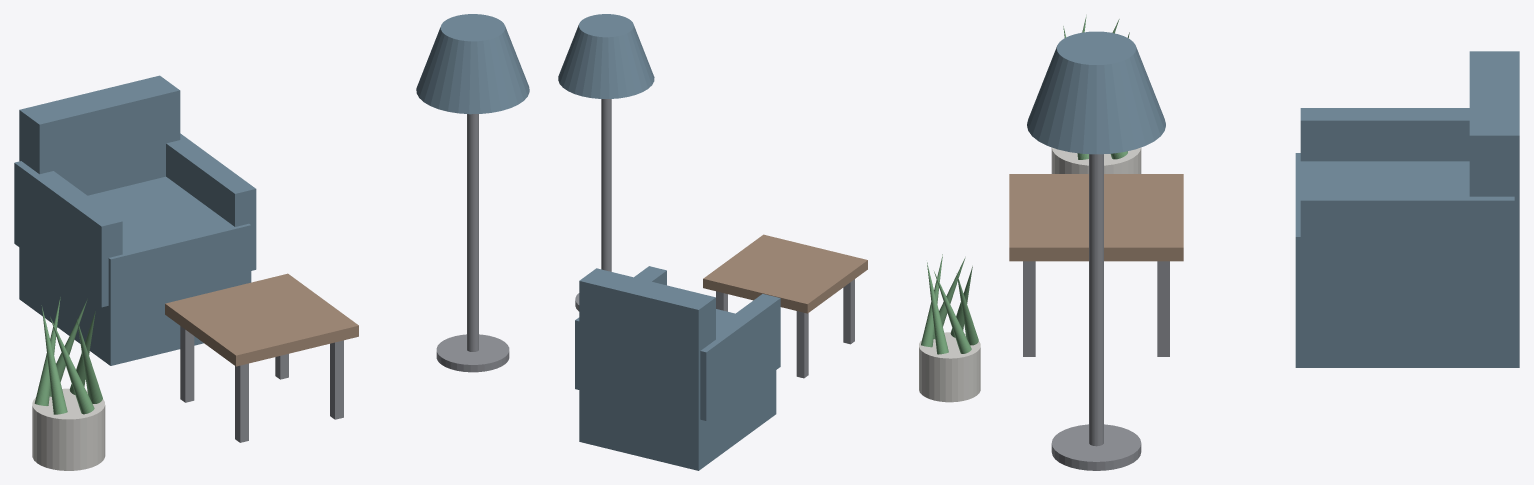
Rendered from InteriorProps_Custom.fbx.
The picture shows the model from 3 angles, left to right: view 1: azimuth 30°, elevation 25°; view 2: azimuth 150°, elevation 25°; view 3: azimuth 270°, elevation 25°; orthographic projection. The views are drawn at different scales.
Visible parts, largest first — view 1: GenProp_Armchair_Seat, GenProp_Armchair_Back, GenProp_SideTable_Top, GenProp_Armchair_Arm_L, GenProp_FloorLamp_Shade, GenProp_Armchair_Arm_R, GenProp_PlantPot, GenProp_FloorLamp_Rod, GenProp_FloorLamp_Base, GenProp_SideTable_Leg, GenProp_SideTable_Leg.002, GenProp_SideTable_Leg.001 (+4 smaller); view 2: GenProp_Armchair_Seat, GenProp_Armchair_Back, GenProp_SideTable_Top, GenProp_Armchair_Arm_L, GenProp_FloorLamp_Shade, GenProp_PlantPot, GenProp_FloorLamp_Rod, GenProp_SideTable_Leg.001, GenProp_Armchair_Arm_R, GenProp_SideTable_Leg, GenProp_PlantLeaf.001, GenProp_PlantLeaf.002 (+2 smaller); view 3: GenProp_Armchair_Arm_R, GenProp_Armchair_Seat, GenProp_SideTable_Top, GenProp_FloorLamp_Shade, GenProp_Armchair_Arm_L, GenProp_Armchair_Back, GenProp_FloorLamp_Rod, GenProp_FloorLamp_Base, GenProp_PlantPot, GenProp_SideTable_Leg.002, GenProp_SideTable_Leg.003.
Part boxes in pixels (<box>): GenProp_Armchair_Seat: <box>19,176,251,365</box>; GenProp_Armchair_Back: <box>19,75,180,195</box>; GenProp_SideTable_Top: <box>165,273,358,366</box>; GenProp_Armchair_Arm_L: <box>14,161,122,307</box>; GenProp_FloorLamp_Shade: <box>416,14,529,114</box>; GenProp_Armchair_Arm_R: <box>166,133,256,270</box>; GenProp_PlantPot: <box>32,388,105,470</box>; GenProp_FloorLamp_Rod: <box>467,114,478,351</box>; GenProp_FloorLamp_Base: <box>436,334,509,372</box>; GenProp_SideTable_Leg: <box>235,363,248,442</box>; GenProp_SideTable_Leg.002: <box>330,340,343,419</box>; GenProp_SideTable_Leg.001: <box>180,326,194,402</box>; GenProp_Armchair_Seat: <box>579,309,776,470</box>; GenProp_Armchair_Back: <box>579,268,715,383</box>; GenProp_SideTable_Top: <box>703,234,867,313</box>; GenProp_Armchair_Arm_L: <box>700,294,780,420</box>; GenProp_FloorLamp_Shade: <box>558,14,654,98</box>; GenProp_PlantPot: <box>919,332,980,402</box>; GenProp_FloorLamp_Rod: <box>601,99,611,271</box>; GenProp_SideTable_Leg.001: <box>796,311,808,378</box>; GenProp_Armchair_Arm_R: <box>575,266,666,389</box>; GenProp_SideTable_Leg: <box>843,279,854,344</box>; GenProp_PlantLeaf.001: <box>927,262,948,354</box>; GenProp_PlantLeaf.002: <box>934,271,971,353</box>; GenProp_Armchair_Arm_R: <box>1300,188,1514,299</box>; GenProp_Armchair_Seat: <box>1295,153,1519,367</box>; GenProp_SideTable_Top: <box>1009,174,1183,261</box>; GenProp_FloorLamp_Shade: <box>1027,31,1165,154</box>; GenProp_Armchair_Arm_L: <box>1300,108,1469,161</box>; GenProp_Armchair_Back: <box>1469,51,1519,297</box>; GenProp_FloorLamp_Rod: <box>1089,154,1103,446</box>; GenProp_FloorLamp_Base: <box>1051,424,1141,470</box>; GenProp_PlantPot: <box>1051,147,1141,173</box>; GenProp_SideTable_Leg.002: <box>1023,261,1035,356</box>; GenProp_SideTable_Leg.003: <box>1157,261,1169,356</box>.
Bounding box in the file's own units: 276 × 179 × 205.
